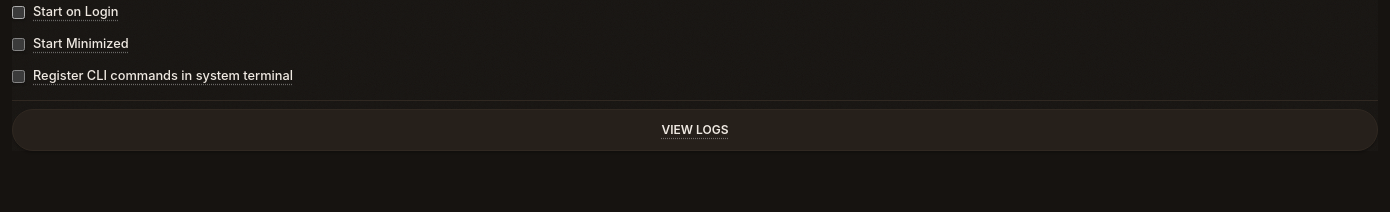
it: Settings Component › handles autostart IPC rejection gracefully without throwing unhandled exceptions
Click the checkbox with test id "checkbox-start-on-login".
click(18, 12)  # box [12,6,25,18]
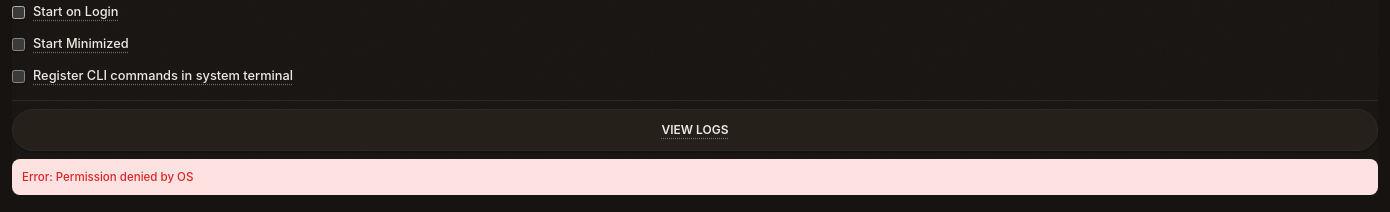
Now the text "Error: Permission denied by OS" is shown, box [12,159,1378,195]
